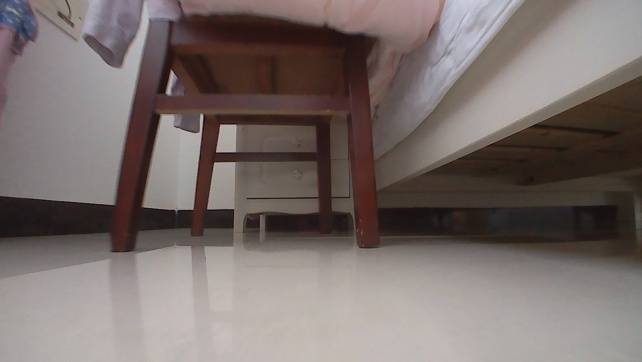bed1: (375, 0, 641, 242)
cabinet: (232, 122, 355, 234)
